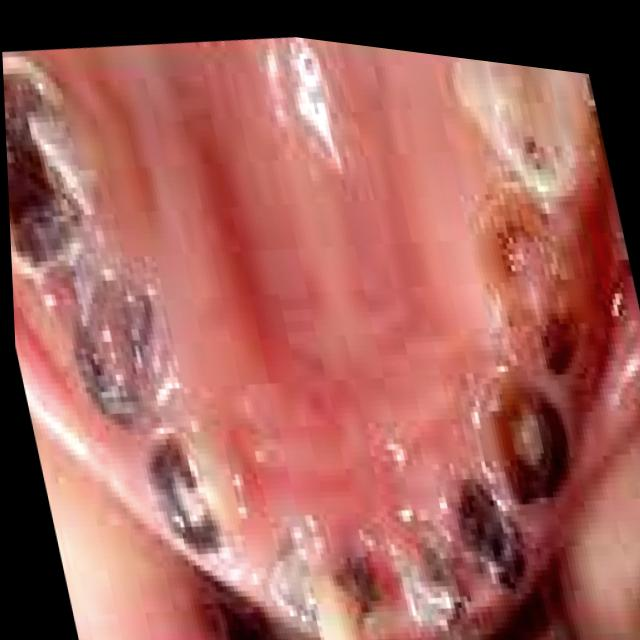cariess: (4, 79, 221, 559), (460, 97, 605, 594), (273, 526, 458, 640)
